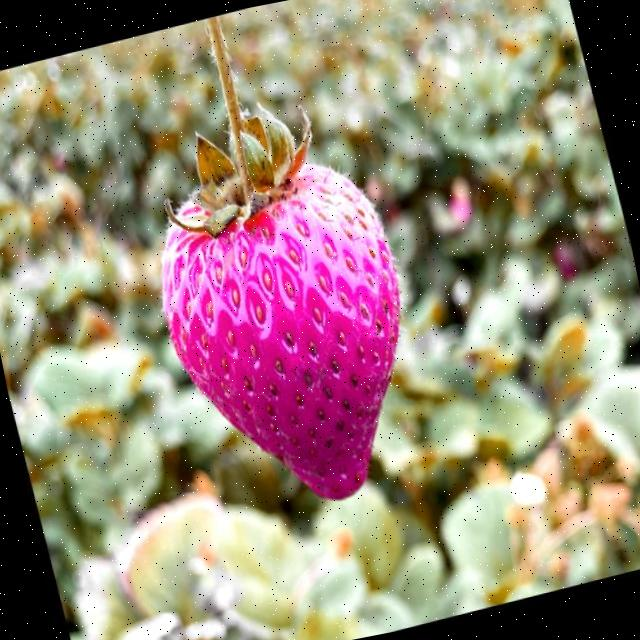strawberry: (162, 20, 400, 499)
